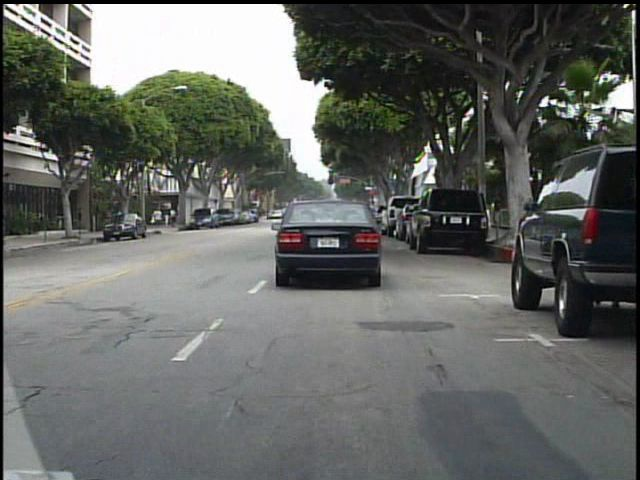person: (151, 204, 166, 233), (169, 204, 182, 231)
